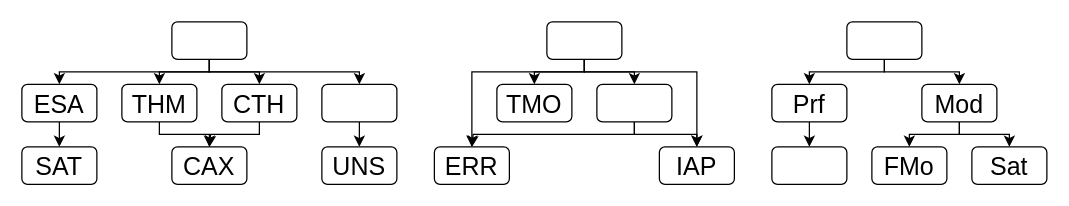
This 1069x206 diagram has some shape labels left out. Here are the shapes that lost their labels. From the top down, the centre of each, then its label:
point (209, 40): SUC
point (584, 40): NOS
point (884, 40): LDa
point (359, 102): CSA
point (634, 102): GUP
point (809, 165): Ref
